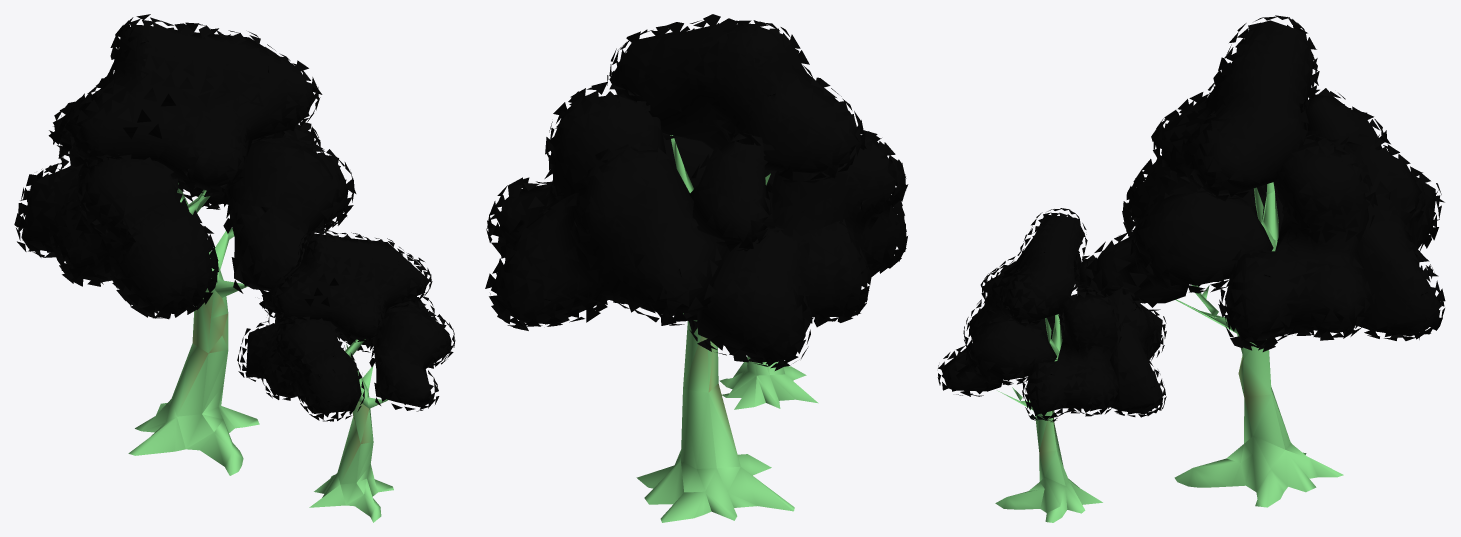
File: SM_ENV_LKNVLD_TreeSet_P_Lod3.gltf
The picture shows the model from 3 angles, left to right: view 1: azimuth 30°, elevation 25°; view 2: azimuth 150°, elevation 25°; view 3: azimuth 270°, elevation 25°; orthographic projection. The views are drawn at different scales.
Visible parts, largest first — view 1: SM_ENV_LKNVLD_TreeSet_P_Lod3; view 2: SM_ENV_LKNVLD_TreeSet_P_Lod3; view 3: SM_ENV_LKNVLD_TreeSet_P_Lod3.
Part boxes in pixels (bbox=[...]): SM_ENV_LKNVLD_TreeSet_P_Lod3: bbox=[14, 14, 455, 522]; SM_ENV_LKNVLD_TreeSet_P_Lod3: bbox=[485, 14, 908, 522]; SM_ENV_LKNVLD_TreeSet_P_Lod3: bbox=[937, 15, 1445, 522].
Size of the model in its own units: 13.72 by 19.04 by 19.79.
